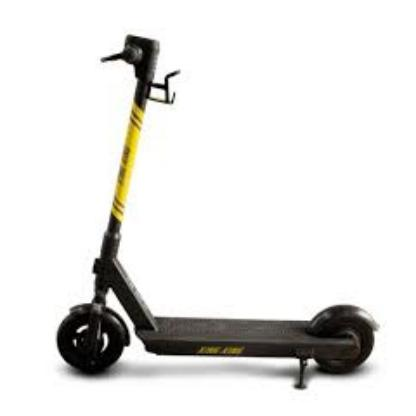bike: (55, 33, 380, 390)
